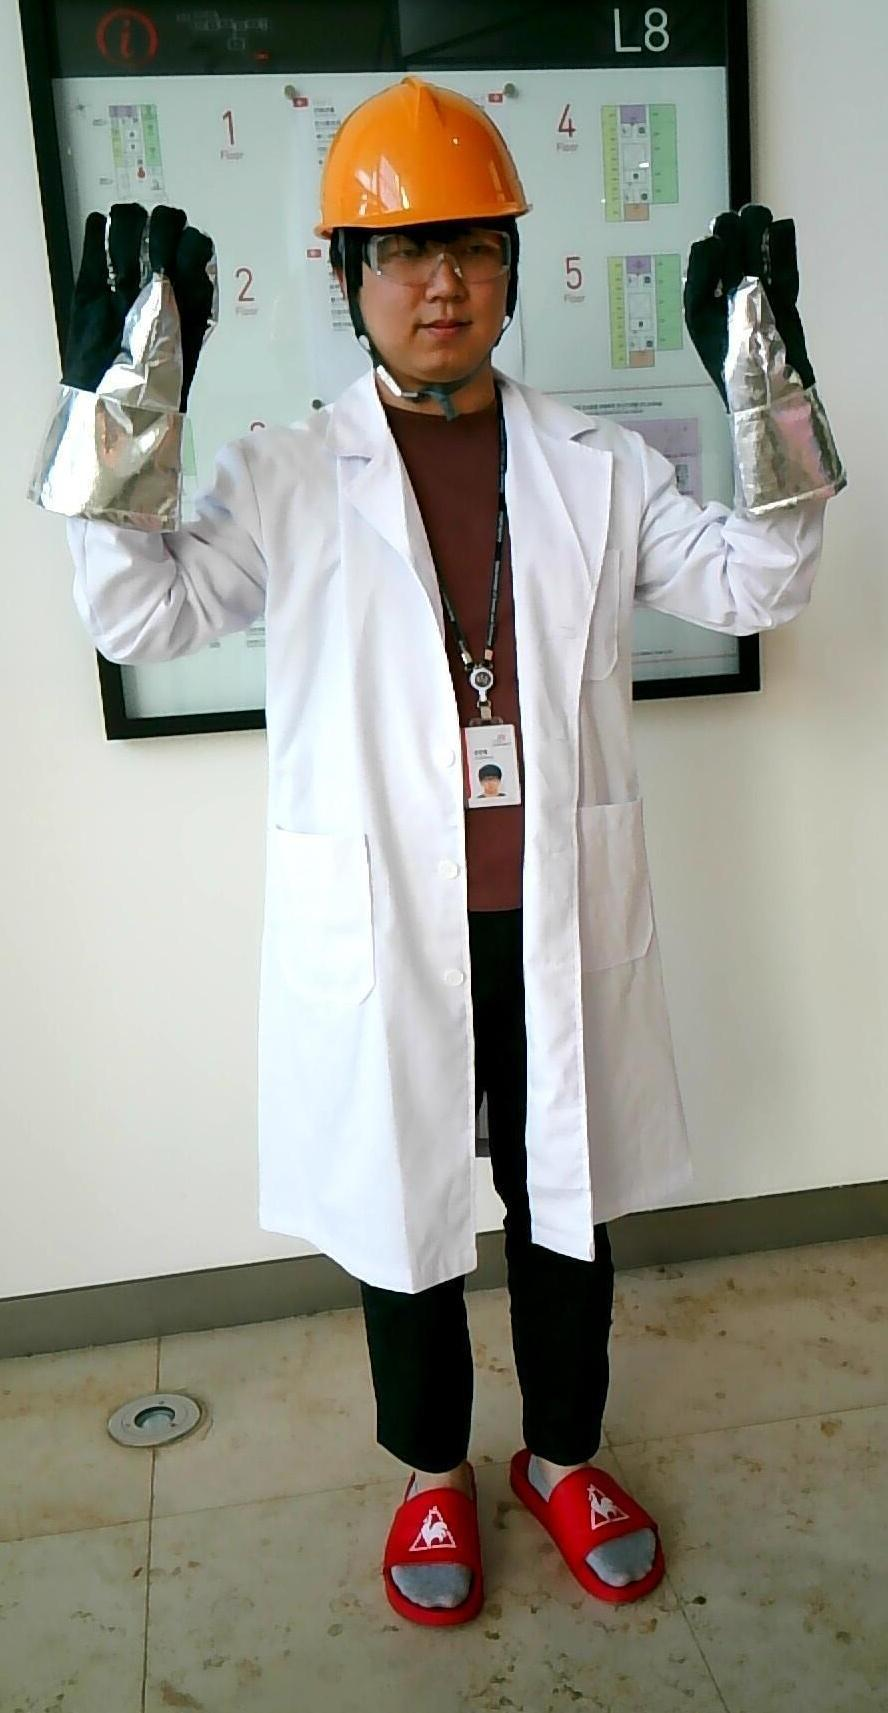lab_coat: (240, 430, 657, 1247)
